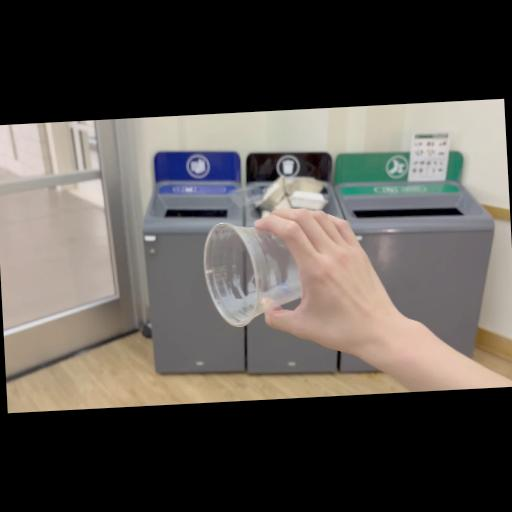lp_plastic_cup: (202, 217, 308, 327)
